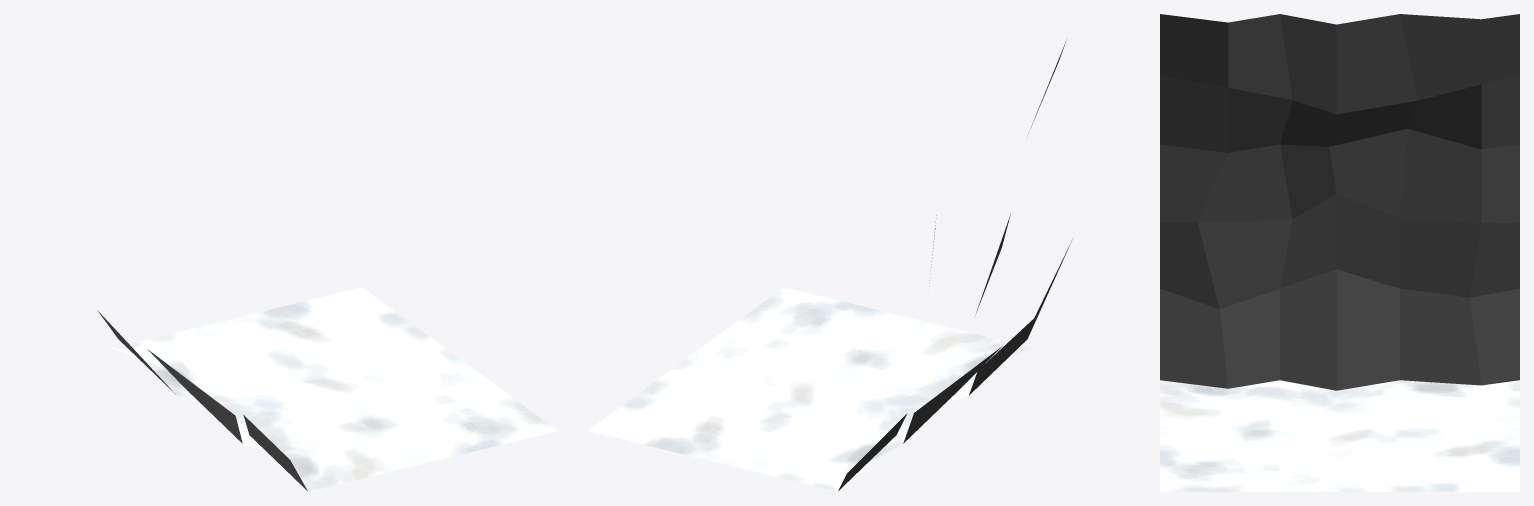
File: drop_ground.fbx
3 views of the same model, side by side, from view 1: azimuth 30°, elevation 25°; view 2: azimuth 150°, elevation 25°; view 3: azimuth 270°, elevation 25° (orthographic). The views are drawn at different scales.
Visible parts, largest first — view 1: drop2_hard; view 2: drop2_hard; view 3: drop2_hard.
Part boxes in pixels (x1=…): drop2_hard: x1=97, y1=287, x2=557, y2=491; drop2_hard: x1=588, y1=40, x2=1071, y2=491; drop2_hard: x1=1160, y1=14, x2=1519, y2=491.
Bounding box in the file's own units: 208 × 200 × 200.
